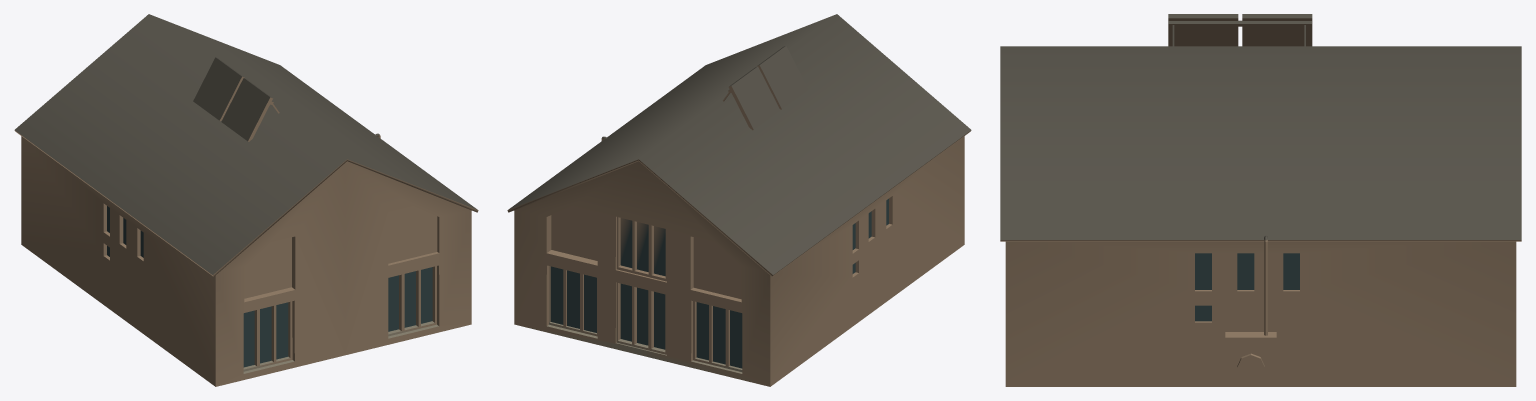
The picture shows the model from 3 angles, left to right: view 1: azimuth 30°, elevation 25°; view 2: azimuth 150°, elevation 25°; view 3: azimuth 270°, elevation 25°; orthographic projection. The views are drawn at different scales.
Parts seen in each view (by area): view 1: pCylinder3:PIV; view 2: pCylinder3:PIV; view 3: pCylinder3:PIV.
Part boxes in pixels (x1,y1,x2,y2): pCylinder3:PIV: [14, 14, 478, 386]; pCylinder3:PIV: [507, 14, 971, 386]; pCylinder3:PIV: [1000, 14, 1521, 386].
Bounding box in the file's own units: 15.3 × 11.52 × 19.19.
